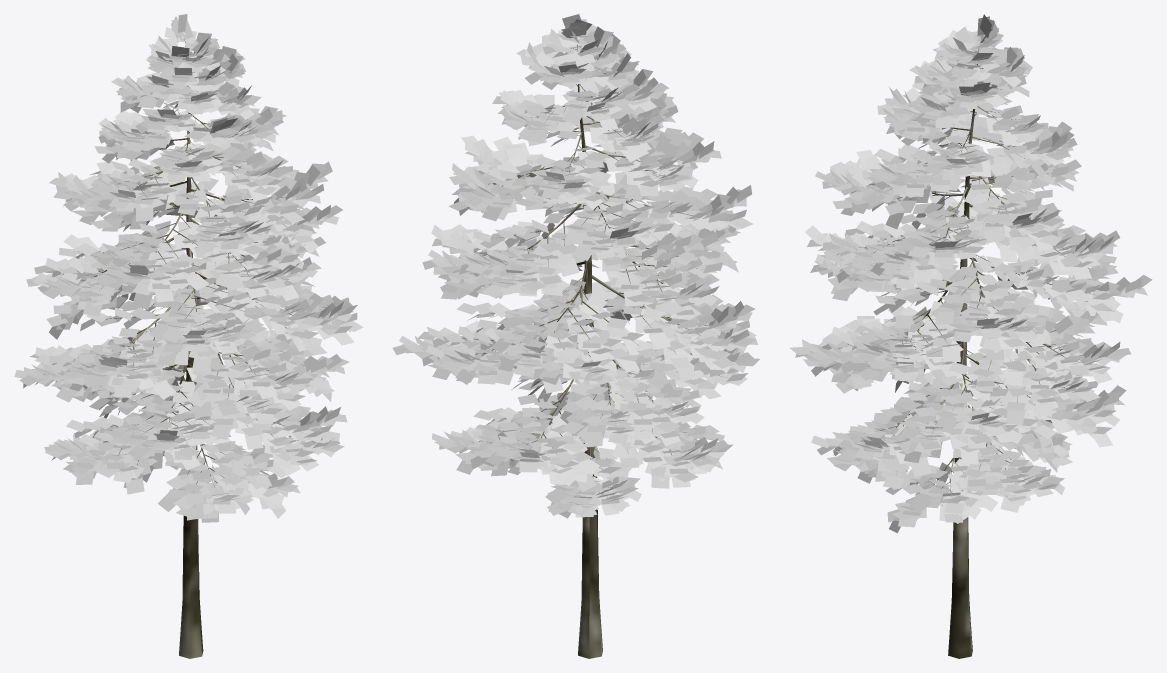
The model's file is trees.fbx.
3 renders of one model, left to right at view 1: azimuth 30°, elevation 25°; view 2: azimuth 150°, elevation 25°; view 3: azimuth 270°, elevation 25°, orthographic. The views are drawn at different scales.
Visible parts, largest first — view 1: 24K.007; view 2: 24K.007; view 3: 24K.007.
Part boxes in pixels (left/top/right/bottom): 24K.007: left=14, top=14, right=363, bottom=658; 24K.007: left=392, top=14, right=759, bottom=658; 24K.007: left=789, top=14, right=1152, bottom=658.
Size of the model in its own units: 1151 by 2231 by 1058.
Materials: 2 (1 with a texture image).
